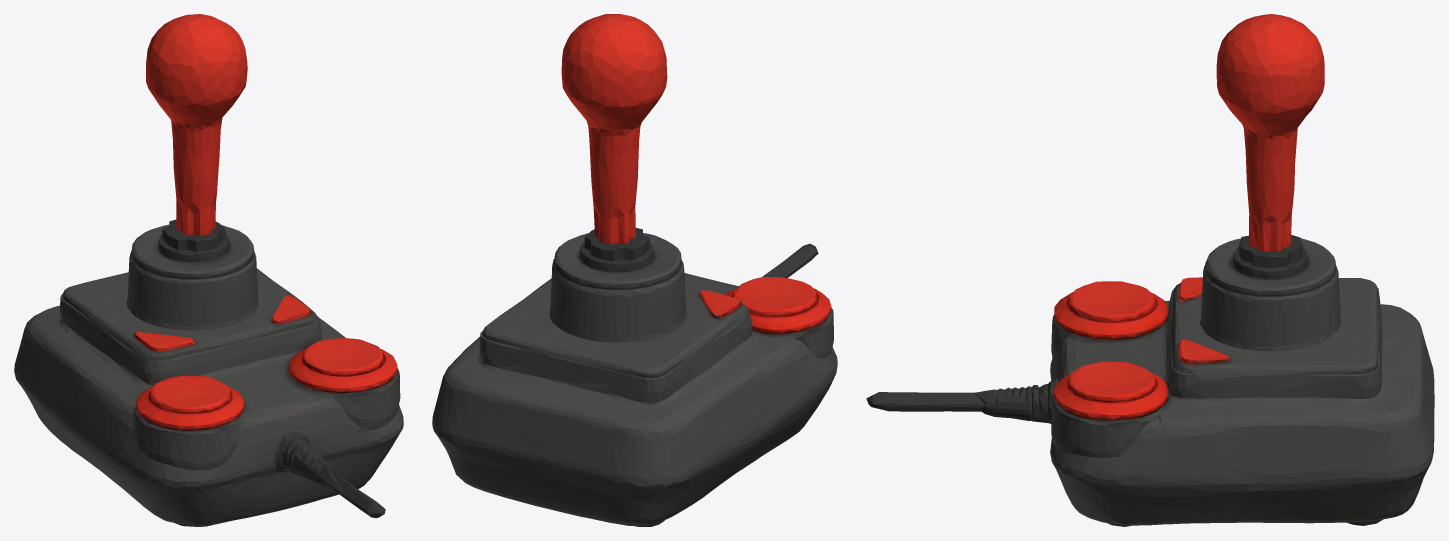
The model's file is joystick.glb.
3 renders of one model, left to right at view 1: azimuth 30°, elevation 25°; view 2: azimuth 150°, elevation 25°; view 3: azimuth 270°, elevation 25°, orthographic. The views are drawn at different scales.
Parts seen in each view (by area): view 1: tripo_node_663ebf3a-01cc-41f1-b887-545403453523; view 2: tripo_node_663ebf3a-01cc-41f1-b887-545403453523; view 3: tripo_node_663ebf3a-01cc-41f1-b887-545403453523.
Part boxes in pixels (x1,y1,x2,y2): tripo_node_663ebf3a-01cc-41f1-b887-545403453523: (14, 14, 403, 526); tripo_node_663ebf3a-01cc-41f1-b887-545403453523: (432, 14, 837, 526); tripo_node_663ebf3a-01cc-41f1-b887-545403453523: (866, 14, 1434, 526).
Size of the model in its own units: 0.5751 by 0.8997 by 1.
Materials: 1 (1 with a texture image).
